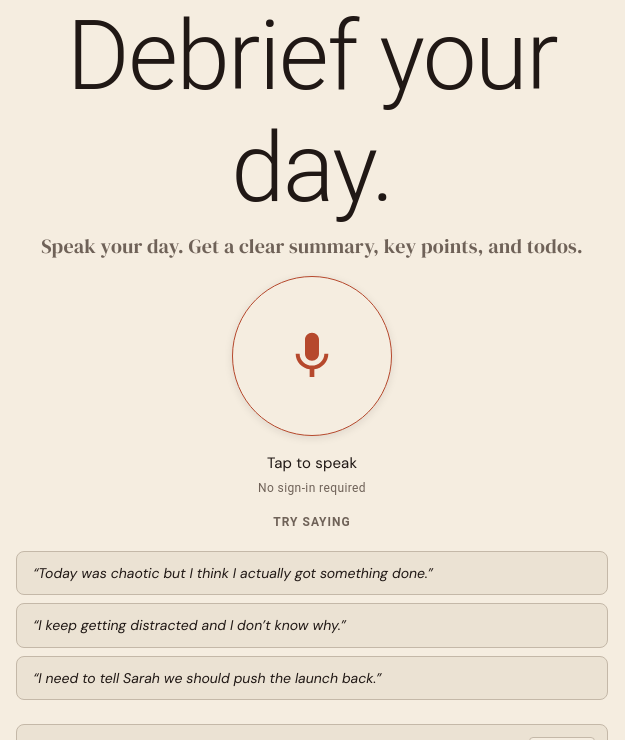
Test: LandingPage — mic denied state › renders mic-denied caption after getUserMedia rejects
The image size is (625, 740).
(page scrolled)
Click the button named "tap to speak your day" at {"x": 312, "y": 356}, box [232,276,392,436]
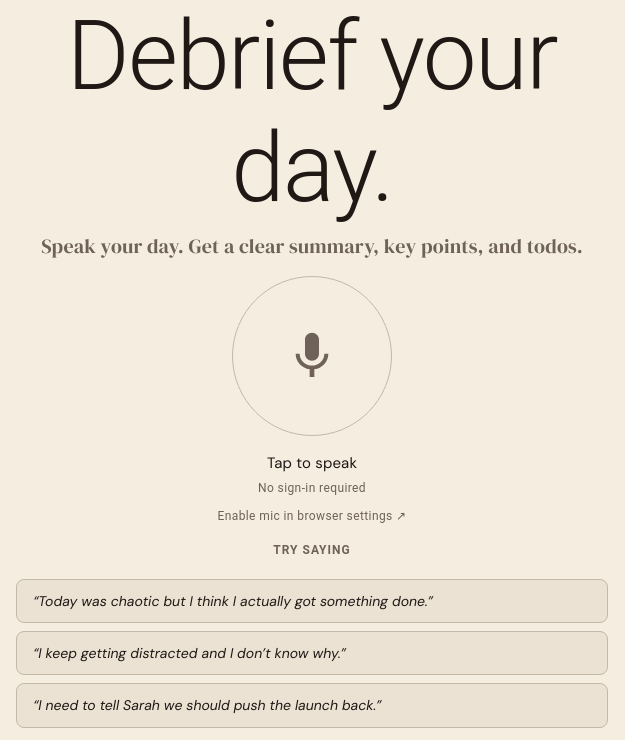
Check: the text "Enable mic in browser settings ↗" is shown, box [218,509,407,523]
